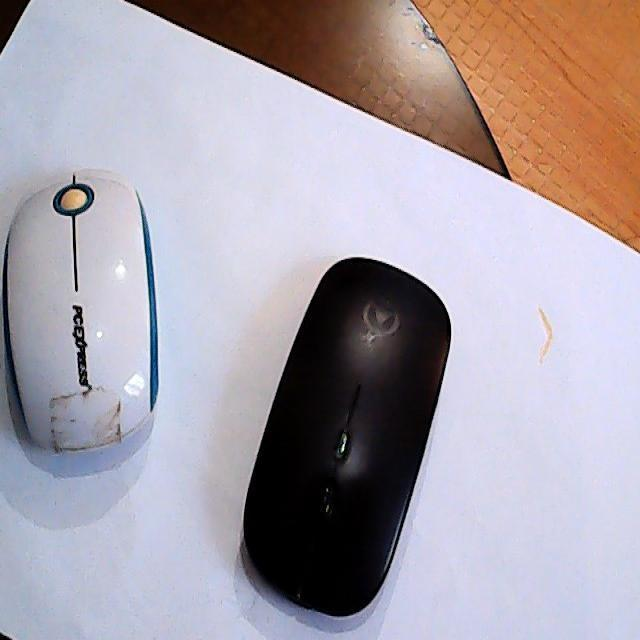Mouse: (242, 250, 454, 617), (2, 173, 164, 454)
